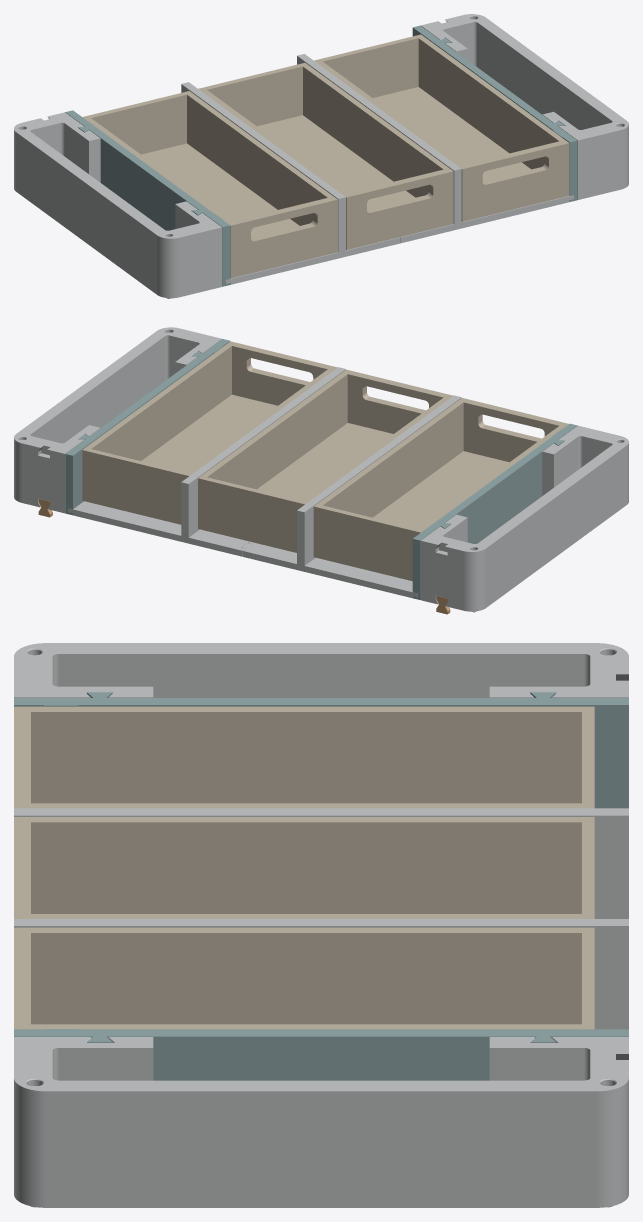
The model's file is layer-assembly.glb.
3 views of the same model, one above another, from view 1: azimuth 30°, elevation 25°; view 2: azimuth 150°, elevation 25°; view 3: azimuth 270°, elevation 25° (orthographic). The views are drawn at different scales.
Visible parts, largest first — view 1: E05, E04, E03, E06, E07, E14, E15, E02, E01, E08, E09; view 2: E03, E05, E04, E06, E07, E14, E11, E10, E15, E02, E01; view 3: E07, E03, E05, E04, E06, E15, E14, E01, E02.
Part boxes in pixels (left/top/right/bottom): E05: left=314, top=34, right=569, bottom=221; E04: left=198, top=63, right=453, bottom=249; E03: left=82, top=91, right=337, bottom=278; E06: left=14, top=112, right=222, bottom=298; E07: left=420, top=14, right=628, bottom=199; E14: left=65, top=110, right=230, bottom=286; E15: left=412, top=25, right=577, bottom=201; E02: left=297, top=54, right=461, bottom=224; E01: left=181, top=82, right=345, bottom=252; E08: left=225, top=237, right=399, bottom=284; E09: left=400, top=195, right=574, bottom=243; E03: left=313, top=398, right=568, bottom=581; E05: left=82, top=341, right=337, bottom=524; E04: left=198, top=369, right=453, bottom=552; E06: left=420, top=425, right=628, bottom=612; E07: left=14, top=327, right=221, bottom=513; E14: left=412, top=423, right=577, bottom=599; E11: left=68, top=501, right=253, bottom=556; E10: left=241, top=542, right=417, bottom=598; E15: left=65, top=339, right=230, bottom=515; E02: left=181, top=367, right=345, bottom=537; E01: left=297, top=395, right=461, bottom=565; E07: left=14, top=1037, right=628, bottom=1207; E03: left=14, top=706, right=594, bottom=808; E05: left=14, top=927, right=594, bottom=1029; E04: left=14, top=817, right=594, bottom=918; E06: left=14, top=643, right=628, bottom=697; E15: left=14, top=1029, right=628, bottom=1080; E14: left=14, top=692, right=628, bottom=808; E01: left=14, top=808, right=628, bottom=918; E02: left=14, top=919, right=628, bottom=1029.
Size of the model in its own units: 0.495 by 0.068 by 0.287.
